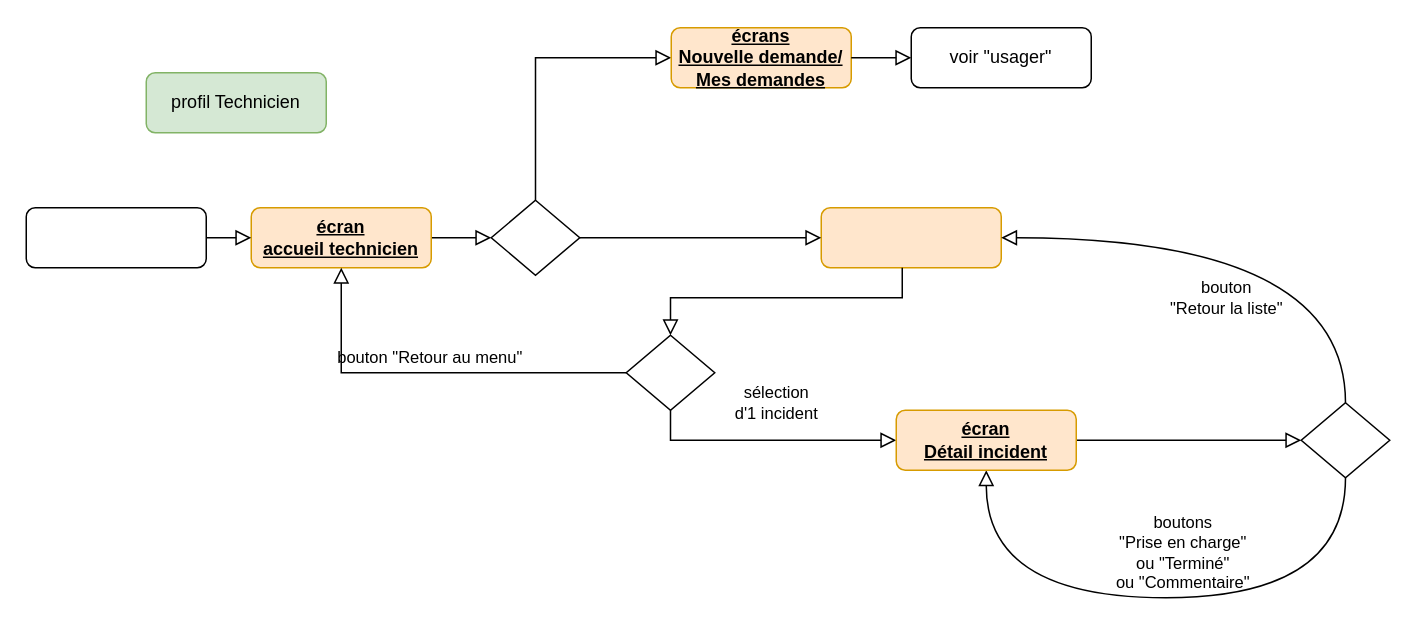
Some shapes in this 1416 by 624 pixel diagram are drawn without their labels. The centre of each missing label's shape, as x and y in pixels:
"authentification réussie" belongs at (x=115, y=237).
"écran Suivi incidents" belongs at (x=910, y=237).
